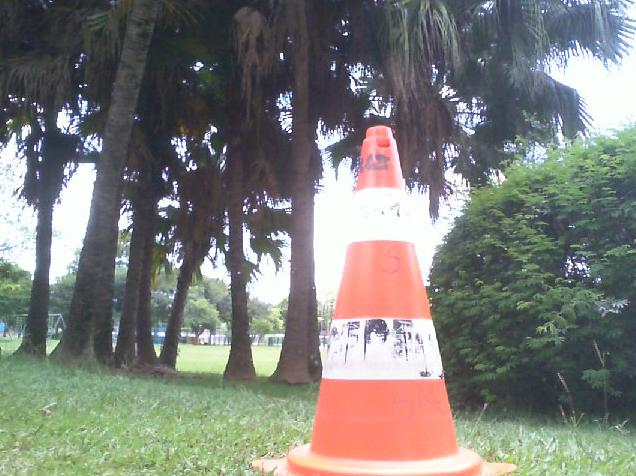0 cone: (250, 125, 516, 476)
